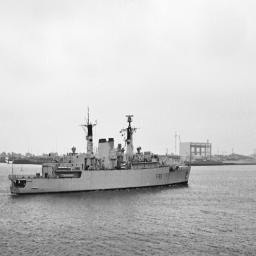Fragata: (10, 107, 193, 197)
